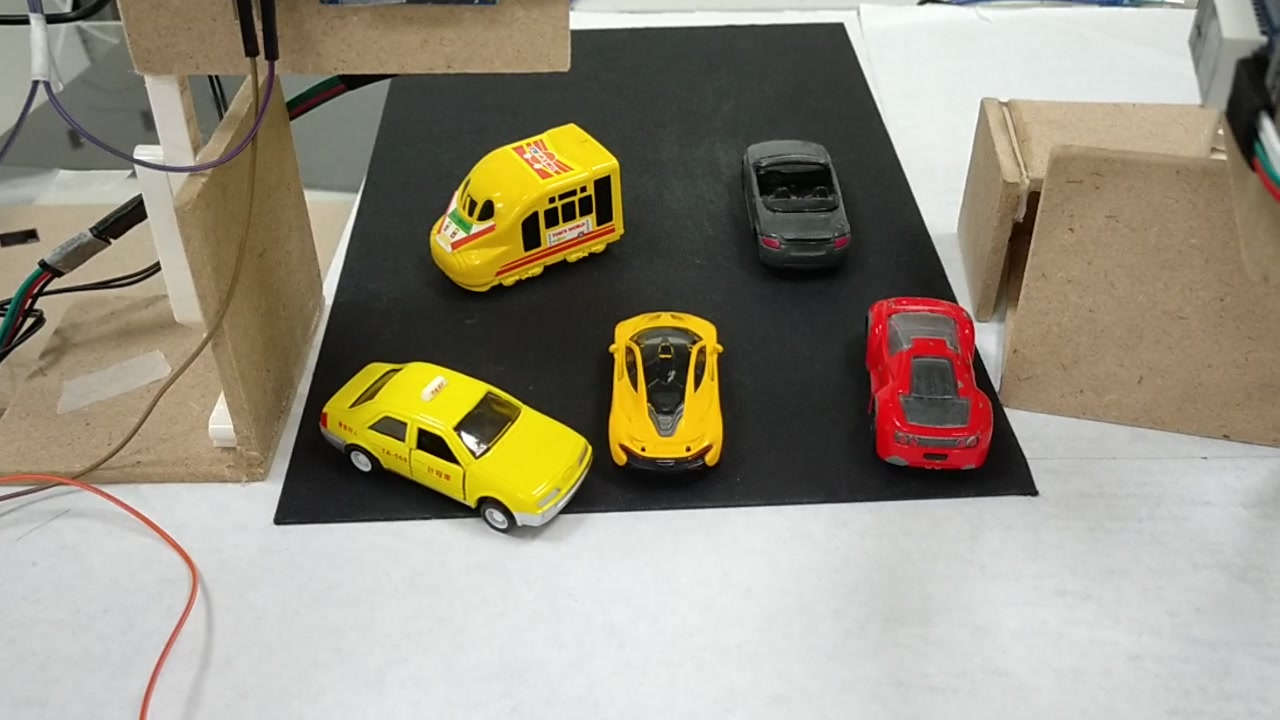car: (323, 356, 593, 533), (866, 288, 992, 476), (605, 316, 722, 476), (739, 136, 852, 265)
